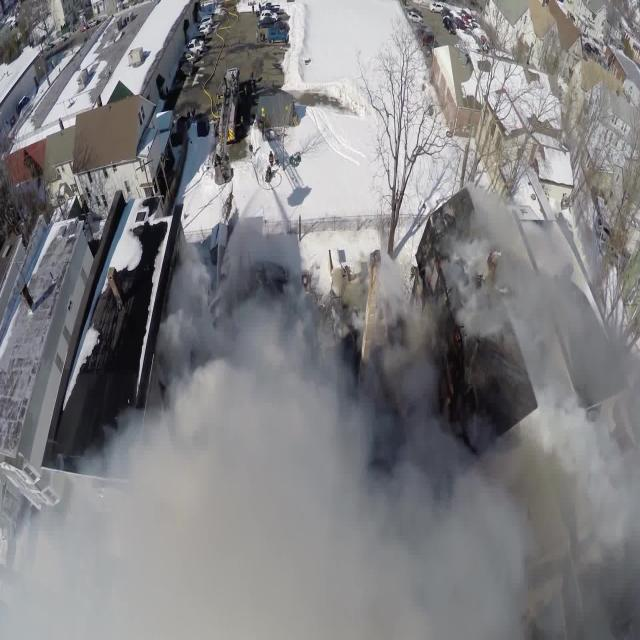smoke: (147, 363, 399, 640), (406, 448, 536, 640), (5, 468, 142, 640)
